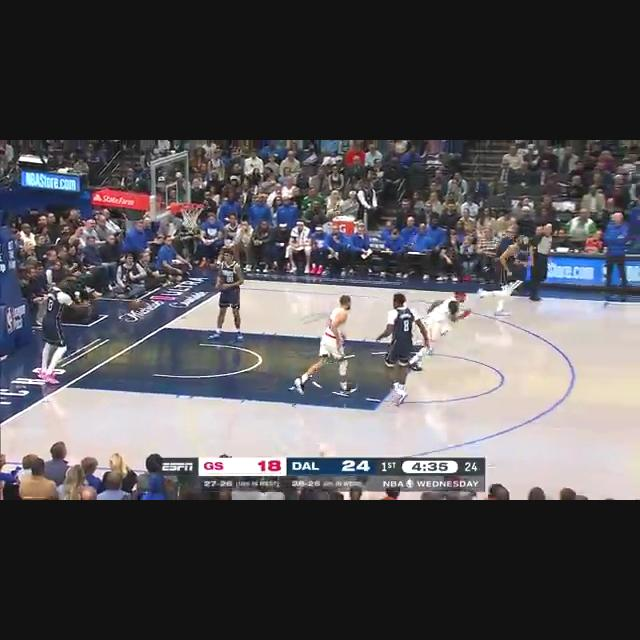Team-1-Player: (30, 274, 96, 390), (371, 290, 435, 406), (473, 234, 532, 318), (204, 248, 248, 344)
Team-2-Player: (289, 291, 359, 397), (421, 284, 474, 346)
